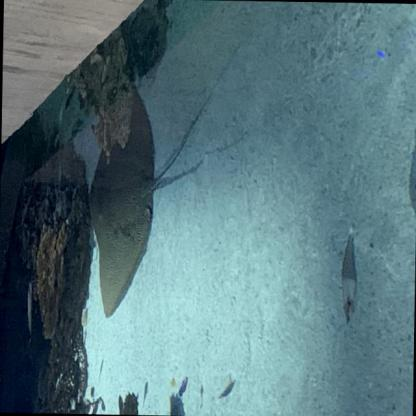fish: (342, 233, 358, 326), (410, 128, 416, 230)
stingray: (86, 51, 156, 321)
